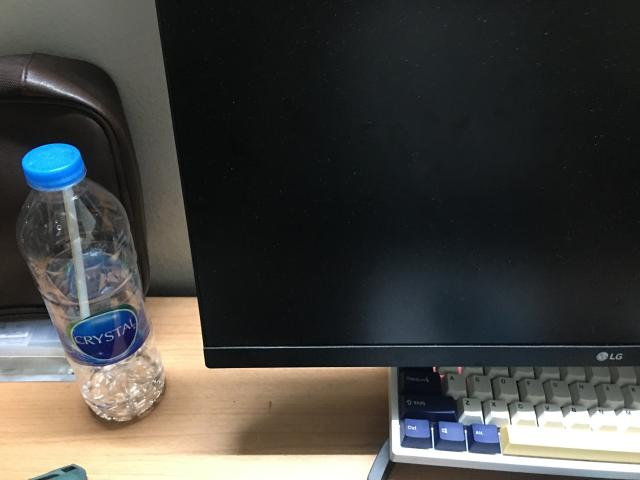bottle: (16, 144, 164, 421)
